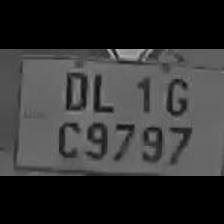1: (128, 67, 156, 113)
7: (164, 119, 192, 164), (107, 116, 134, 162)
9: (136, 118, 163, 162), (82, 116, 108, 159)
C: (52, 116, 82, 159)
D: (58, 64, 88, 108)
G: (160, 68, 190, 114)
L: (88, 63, 114, 111)
